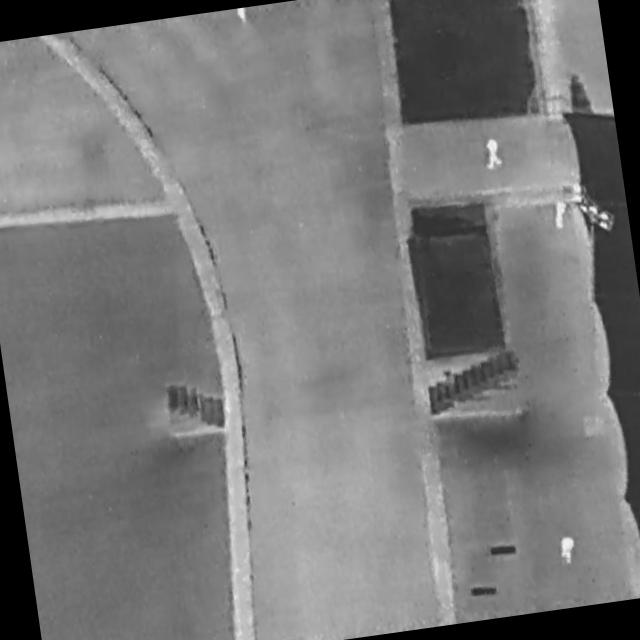person: (484, 135, 506, 170), (551, 198, 572, 233), (559, 533, 579, 567), (236, 8, 251, 24)
